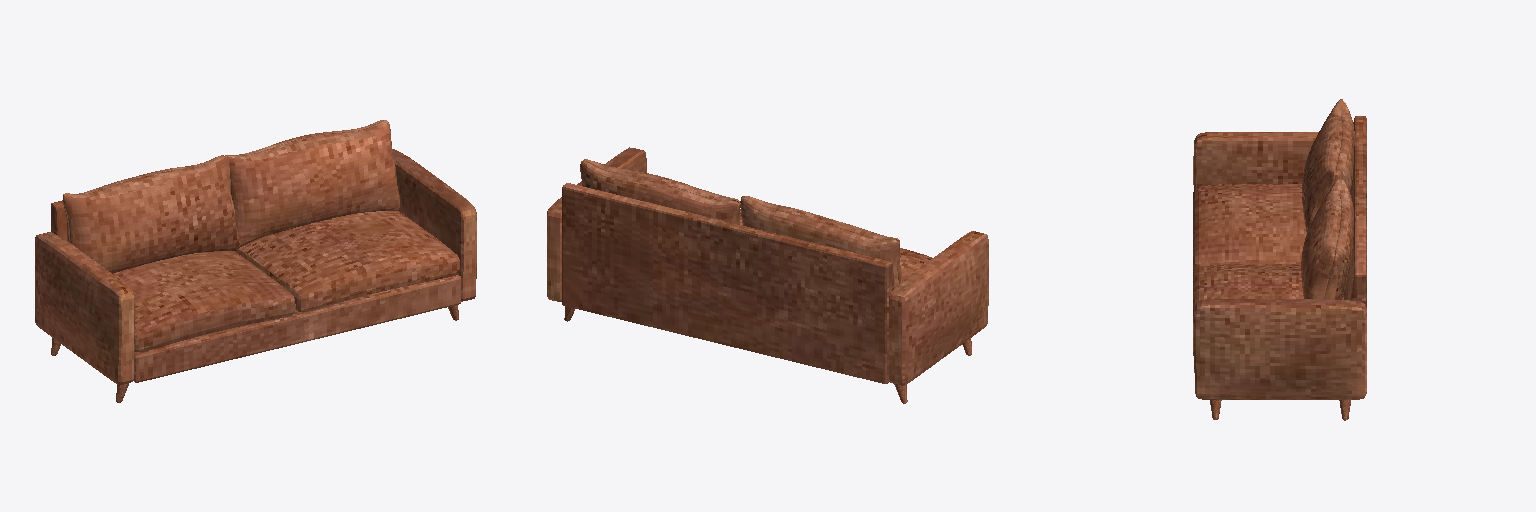
3 renders of one model, left to right at view 1: azimuth 30°, elevation 25°; view 2: azimuth 150°, elevation 25°; view 3: azimuth 270°, elevation 25°, orthographic.
Visible parts, largest first — view 1: Cube.009_Cube.010; view 2: Cube.009_Cube.010; view 3: Cube.009_Cube.010.
Boxes of the visible parts, x1,y1,x2,y2 form: Cube.009_Cube.010: [35, 120, 476, 384]; Cube.009_Cube.010: [547, 147, 988, 385]; Cube.009_Cube.010: [1193, 99, 1366, 399].
Bounding box in the file's own units: 2.04 × 0.8597 × 0.8296.
Materials: 3 (1 with a texture image).